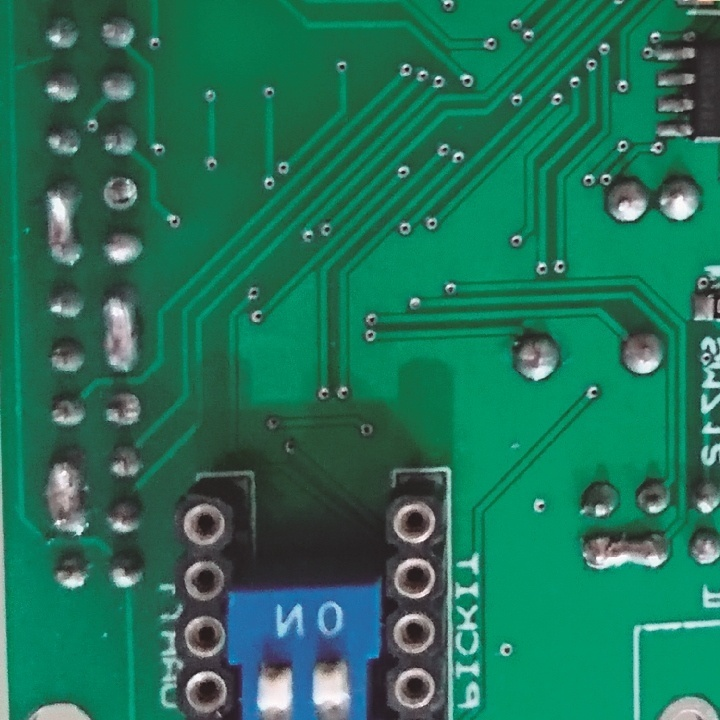F: (99, 170, 143, 217)
P: (578, 530, 672, 575), (96, 289, 143, 373), (41, 180, 84, 266), (43, 455, 87, 537)
